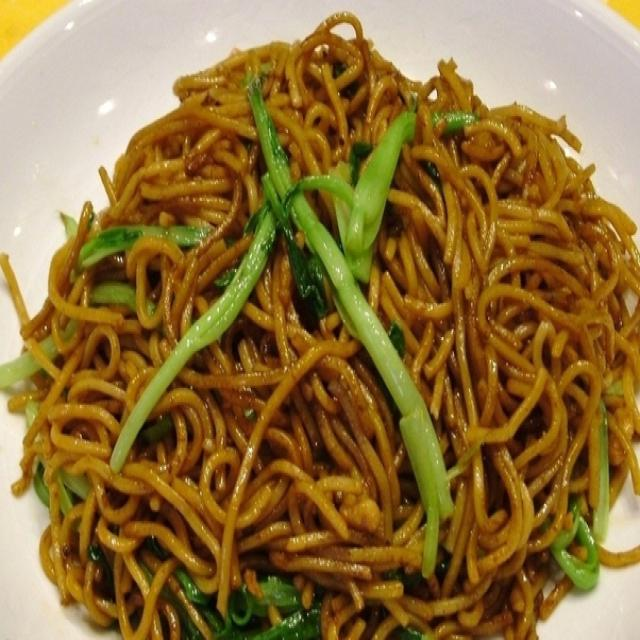面条主食: (19, 20, 625, 626)
